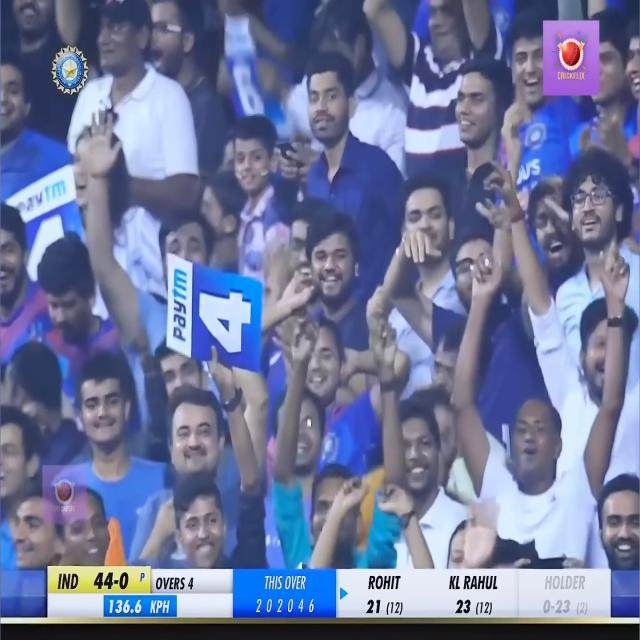fully_visible: (163, 236, 201, 362)
partially_visible: (8, 176, 93, 218)
